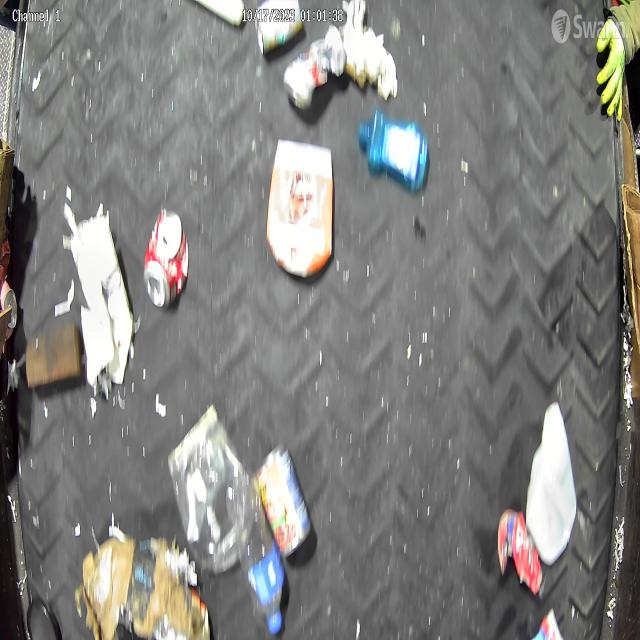can: (257, 446, 313, 564), (285, 24, 346, 112), (142, 208, 189, 309), (256, 0, 303, 52)
milk_jug: (526, 400, 577, 562)
non_white_jug: (265, 144, 334, 282)
plastic_bottle: (240, 481, 288, 628)
